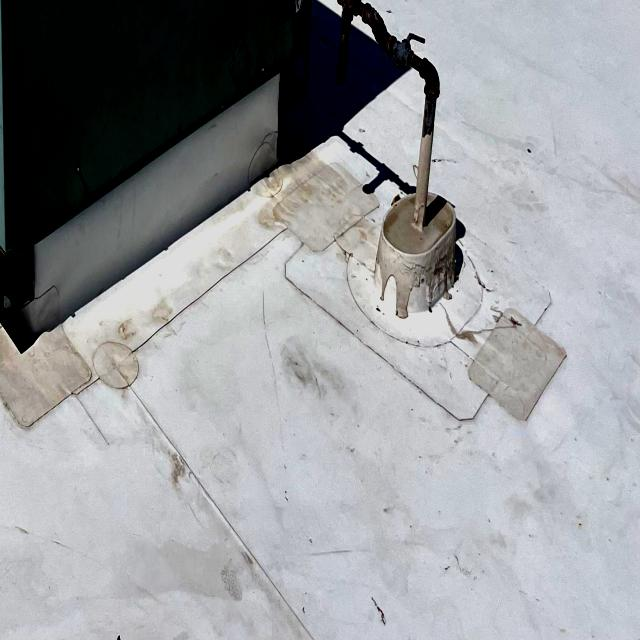RTU: (0, 0, 335, 330)
